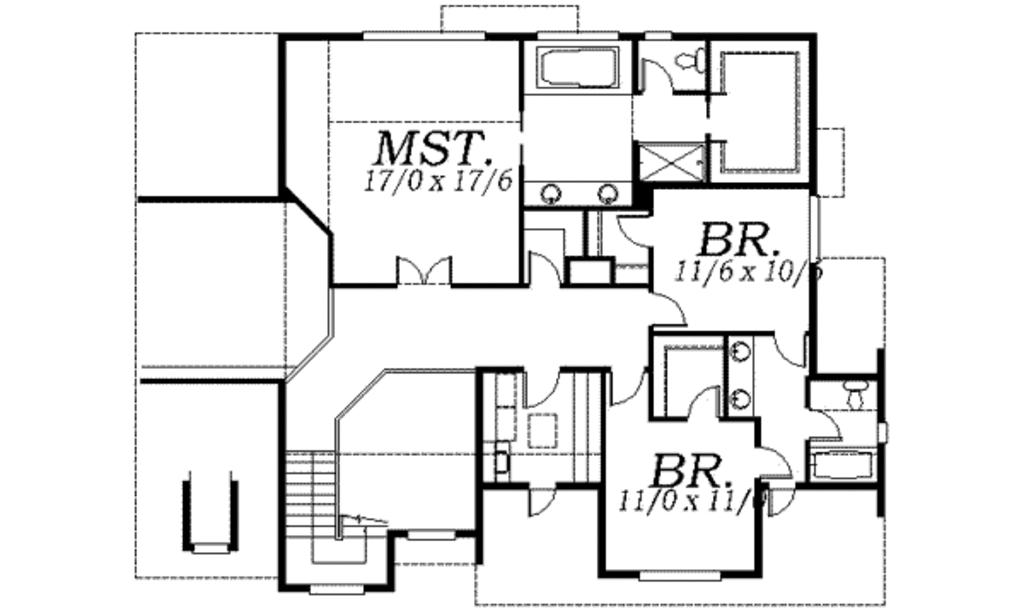door: (392, 253, 456, 290), (753, 439, 794, 489), (612, 212, 652, 257), (520, 367, 560, 412), (609, 364, 650, 407), (773, 332, 814, 374), (684, 384, 723, 423), (528, 248, 563, 291), (803, 410, 844, 444), (639, 56, 674, 94), (650, 292, 687, 327), (524, 487, 558, 522), (767, 487, 795, 523)
large_sink: (837, 379, 877, 411), (674, 43, 708, 77)
small_sink: (522, 179, 634, 209), (726, 333, 756, 418)
stairs: (281, 448, 395, 582)
tub: (523, 43, 624, 98), (804, 448, 877, 488)
window: (358, 27, 489, 46), (633, 567, 723, 588), (808, 188, 824, 265), (404, 525, 456, 546)
